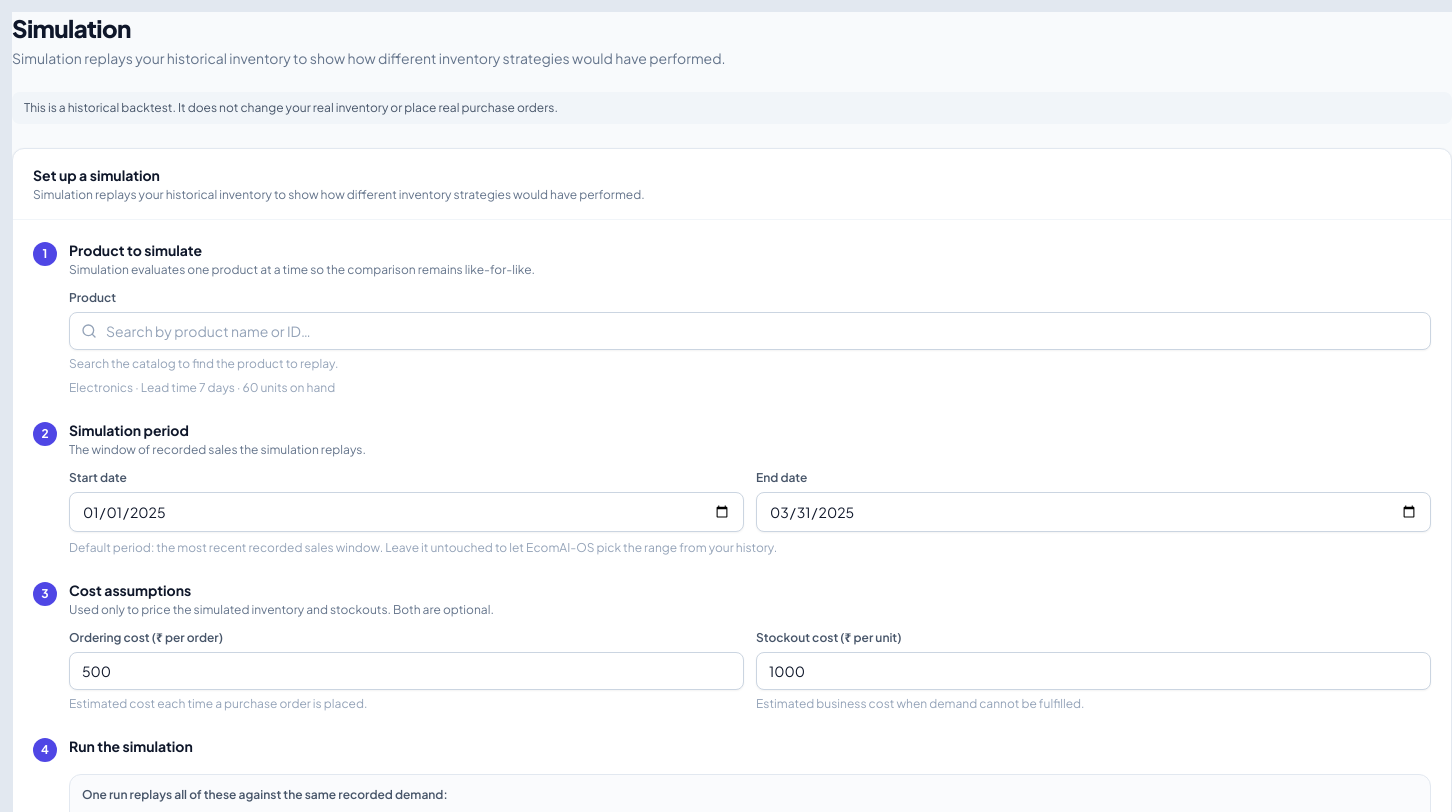
Test: searching for the product to simulate › finds a product by name and offers its id and category
Type "desk lamp" into the dropdown labelled "Product" at (750, 331), box [69,312,1431,350]
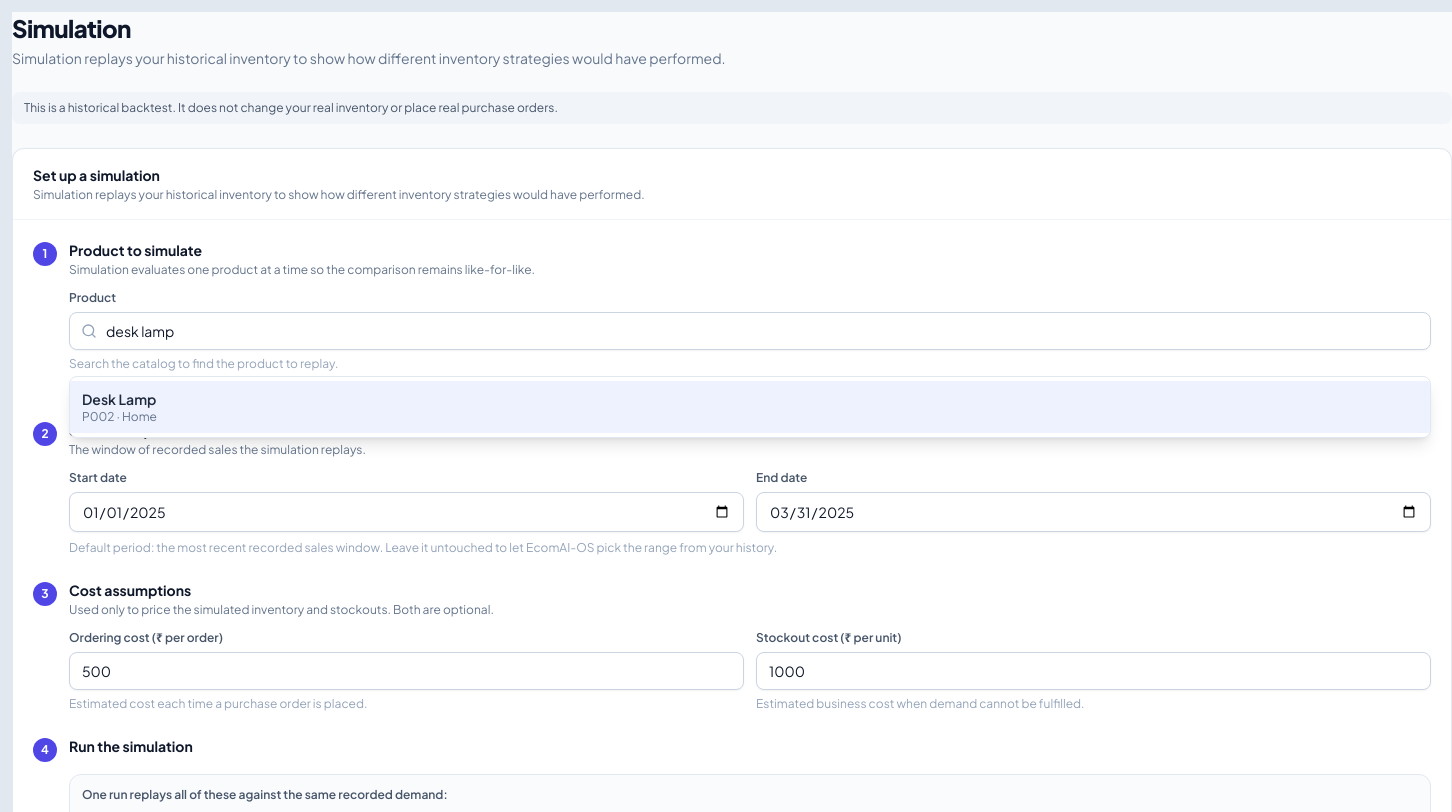
Expected: the number of options is 1, [70,381,1430,433]
Expected: the option shows "Desk Lamp", [70,381,1430,433]
Expected: the option shows "P002", [70,381,1430,433]
